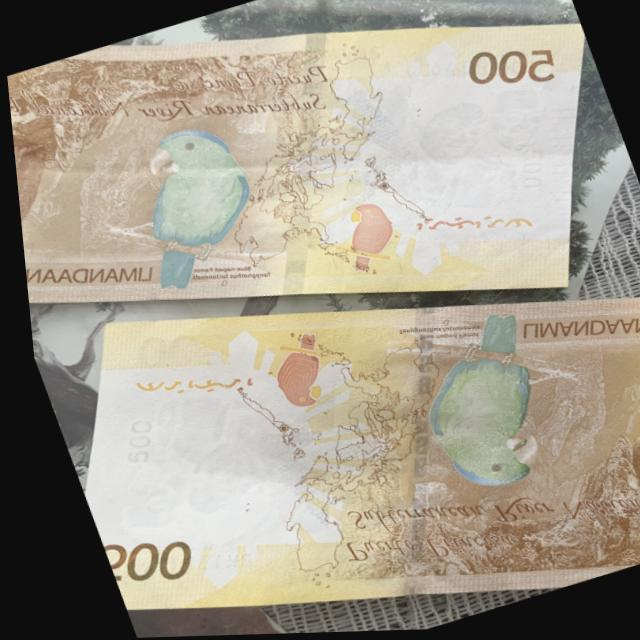500_big_parrot: (384, 304, 578, 501), (101, 112, 291, 301)
500_parrot_watermark: (311, 194, 413, 285), (249, 324, 342, 414)
value_watermark: (97, 413, 154, 471), (498, 146, 558, 199)
watermark: (69, 380, 283, 549), (363, 71, 575, 233)
